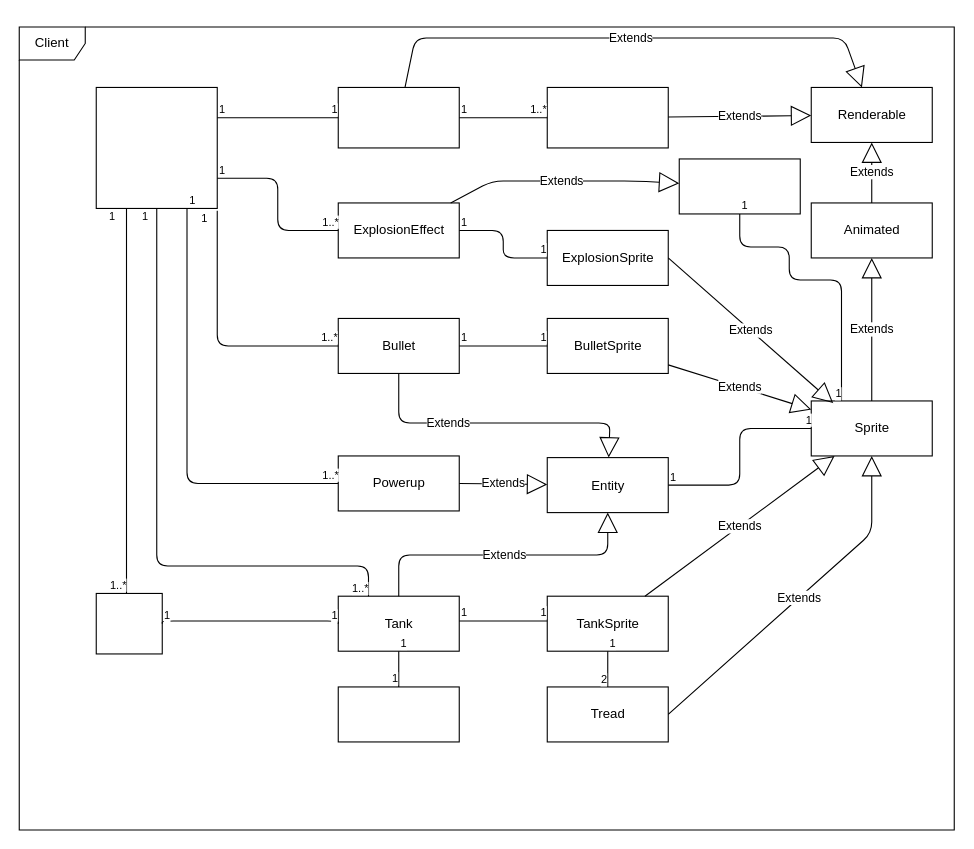
Some shapes in this 974 by 849 pixel diagram are drawn without their labels. The shapes that lost their labels are listed below. From the top down, each one's centre as x and y in pixels, then its label:
At [398,117]: "Map".
At [607,117]: "MapTile".
At [156,147]: "Game".
At [739,186]: "Effect".
At [128,623]: "Layer".
At [398,714]: "PlayerCard".
